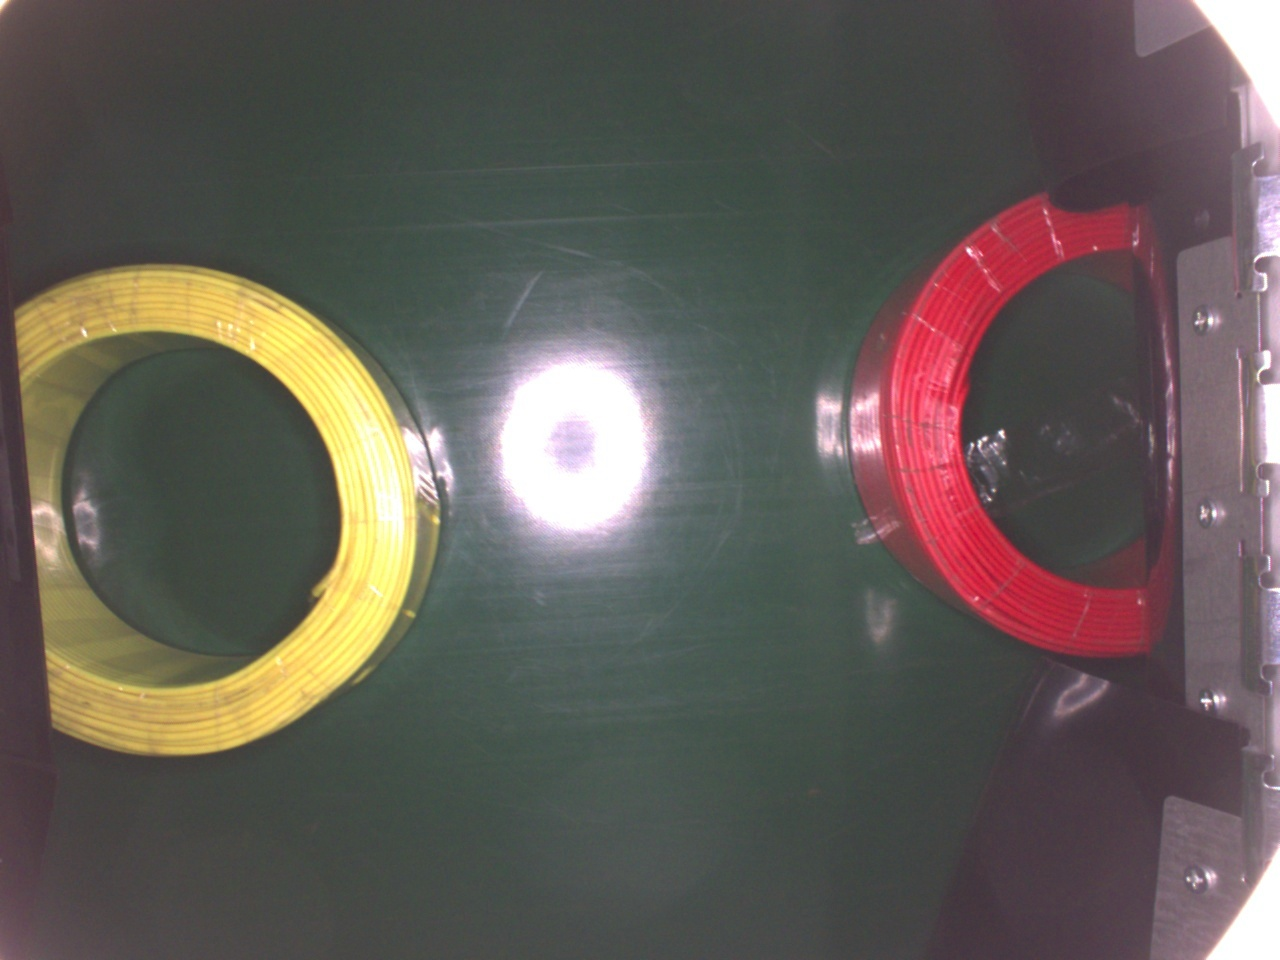red: (842, 194, 1149, 665)
yellow: (9, 255, 440, 769)
